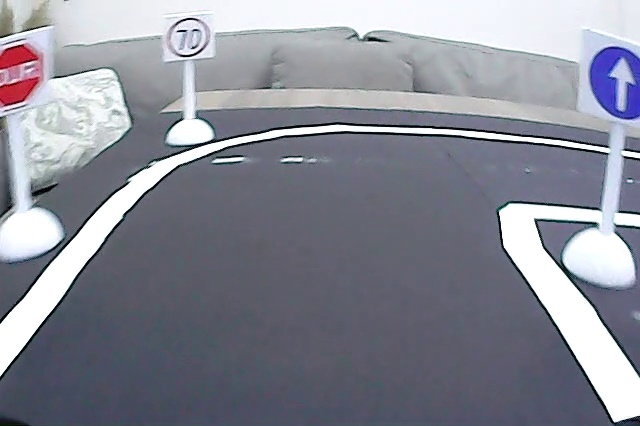speed limit 70: (164, 13, 212, 59)
stop sign: (1, 37, 49, 115)
